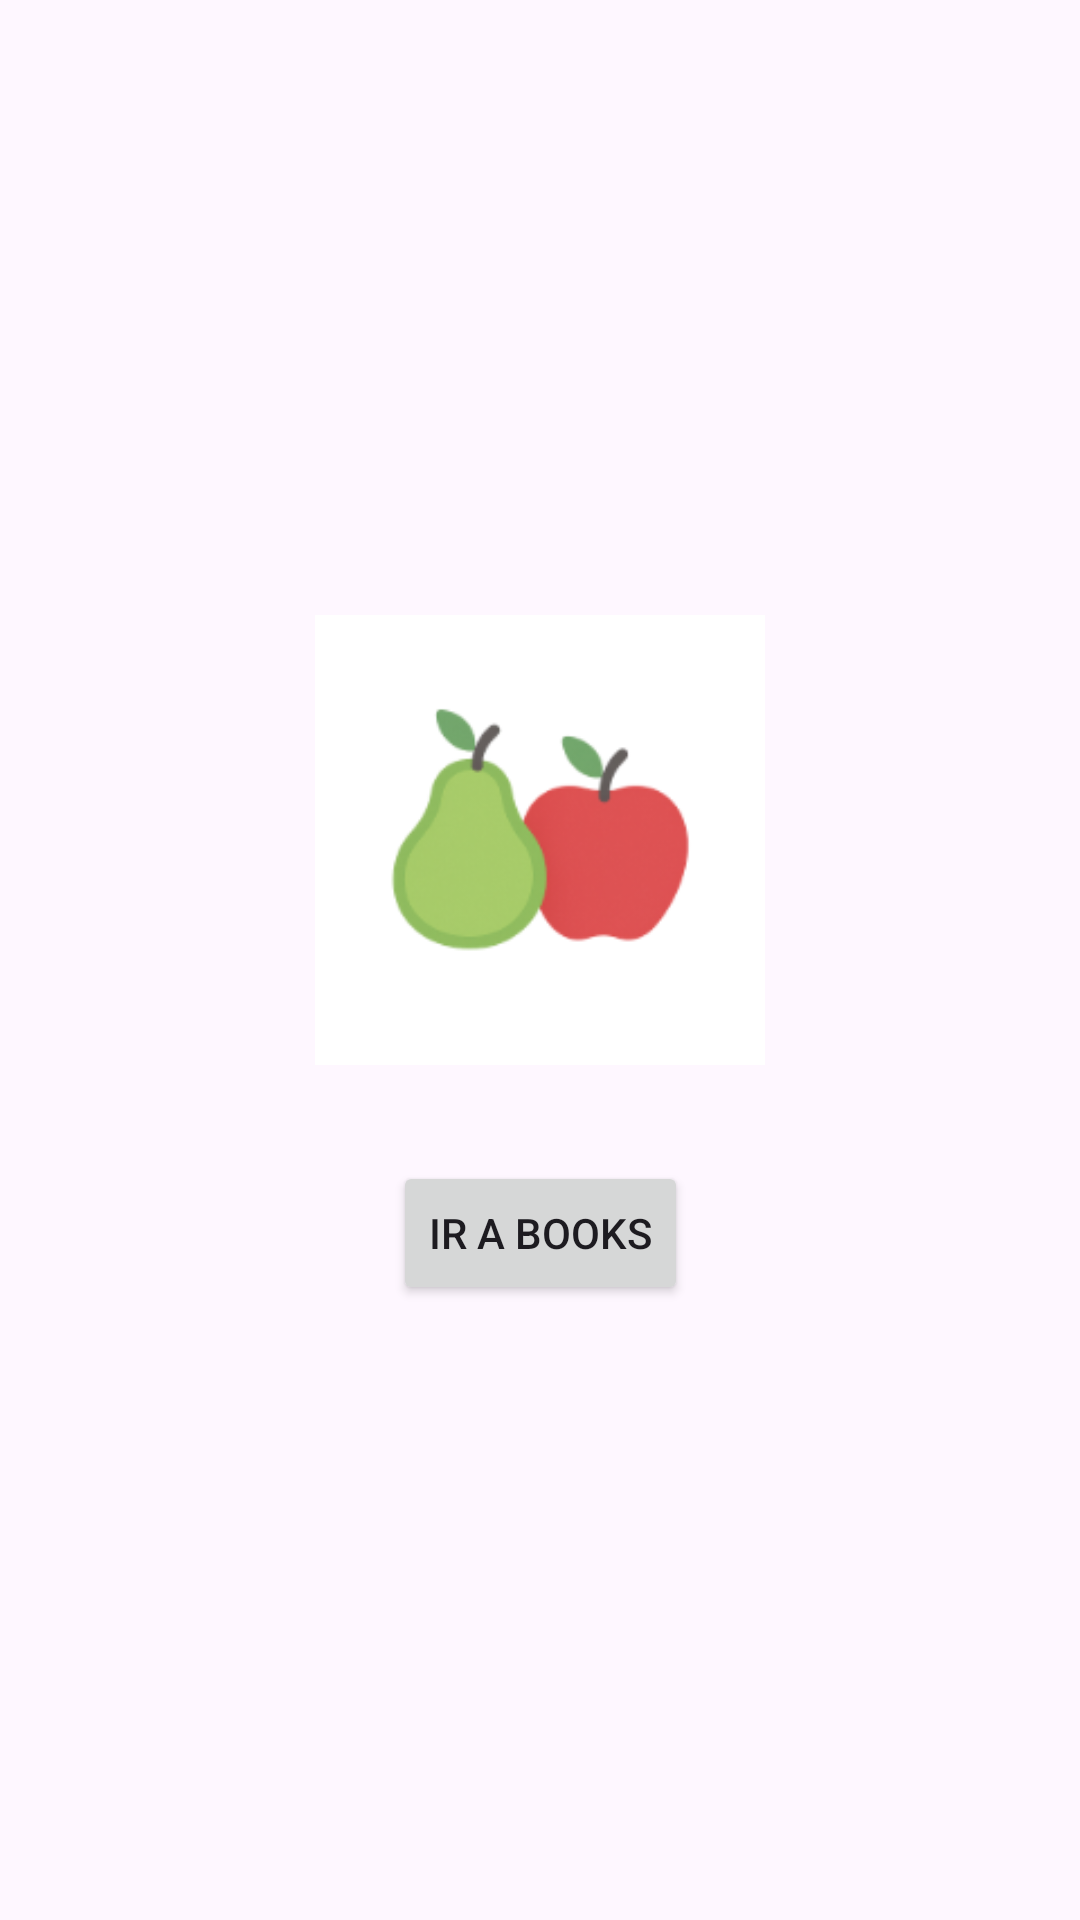

Locate icon controls on the screen. Image size 1080px×1920px, boxes as (x1, y1, x2, y2).
Peras con Manzanas: (391, 709, 689, 950)
